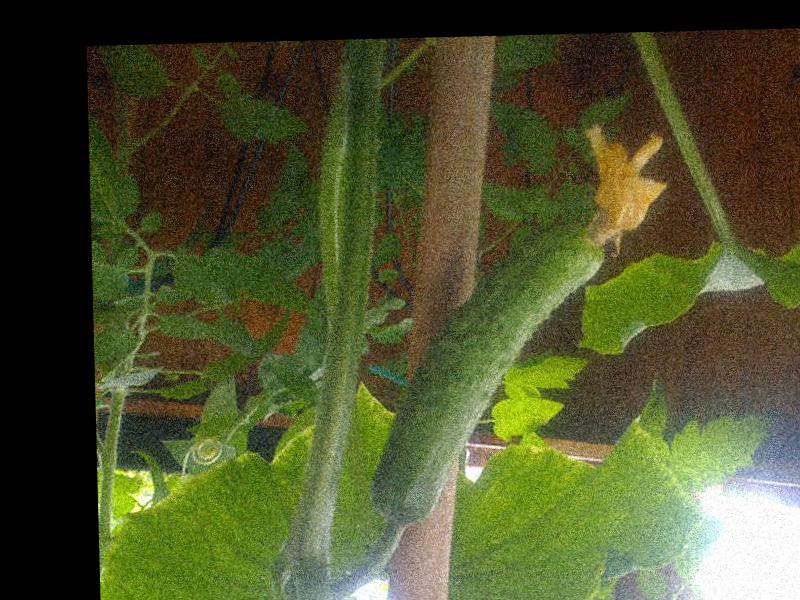Cucumber: (364, 122, 678, 523)
